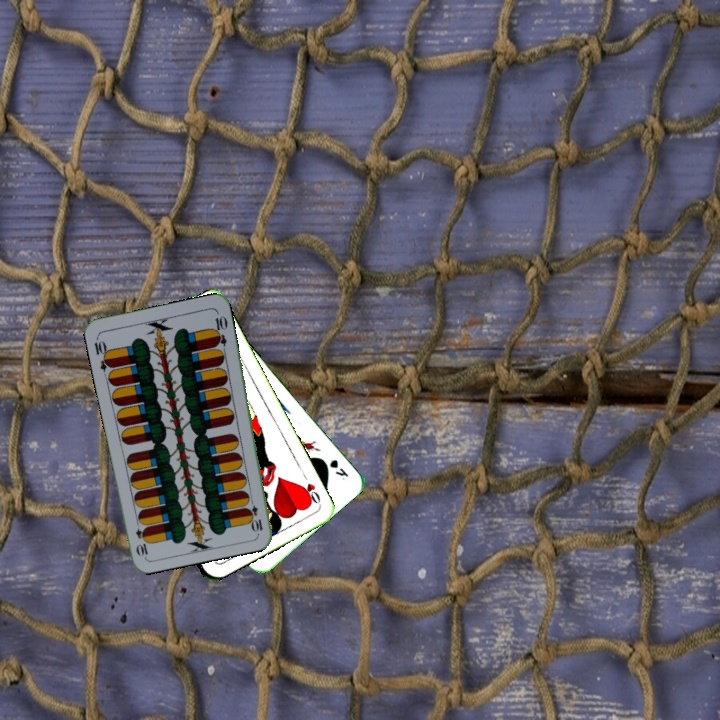E10: (90, 333, 114, 374), (245, 494, 265, 534)
GK: (325, 455, 351, 483)
HO: (296, 470, 323, 507)
